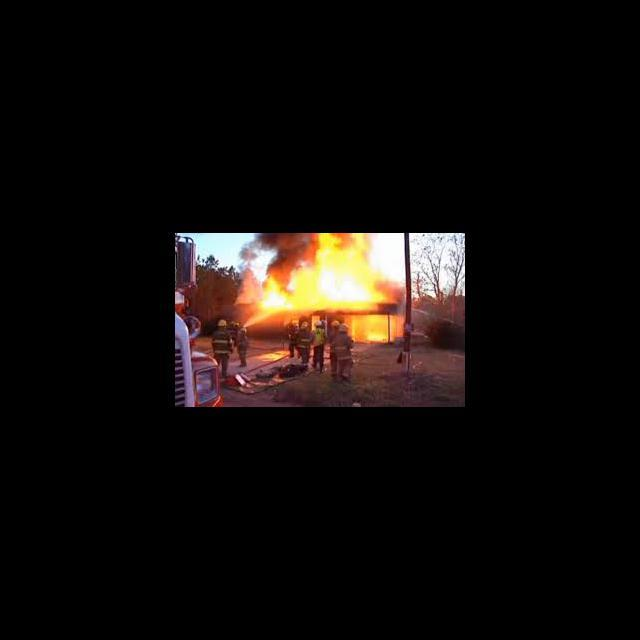Fire: (312, 234, 387, 308), (257, 274, 313, 309), (364, 322, 386, 342)
Smoke: (240, 234, 308, 268), (233, 273, 256, 304)
